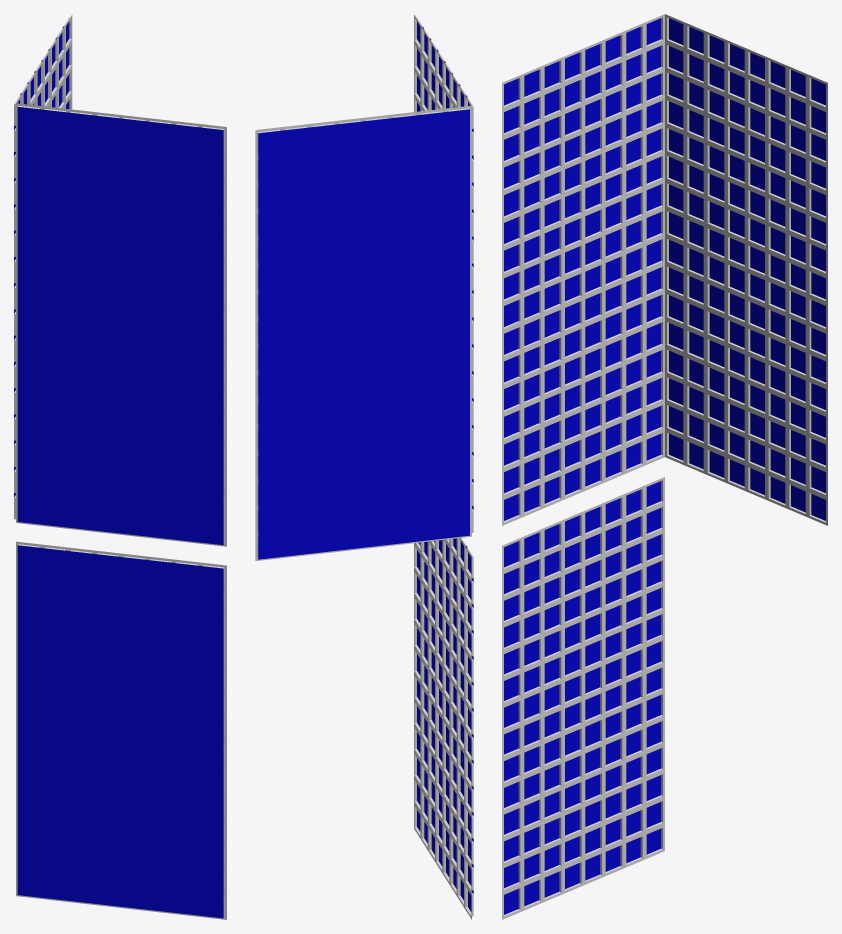
File: StairsWindows.fbx
3 renders of one model, left to right at view 1: azimuth 30°, elevation 25°; view 2: azimuth 150°, elevation 25°; view 3: azimuth 270°, elevation 25°, orthographic. The views are drawn at different scales.
Visible parts, largest first — view 1: Plane.106; view 2: Plane.106; view 3: Plane.106.
Boxes of the visible parts, bbox=[...] form: Plane.106: bbox=[14, 14, 226, 919]; Plane.106: bbox=[255, 15, 473, 919]; Plane.106: bbox=[502, 14, 827, 919].
Bounding box in the file's own units: 1.5 × 8.5 × 3.
